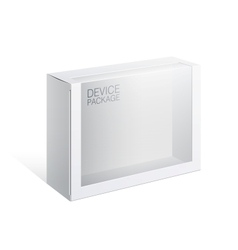PlasticBox: (42, 53, 204, 202)
